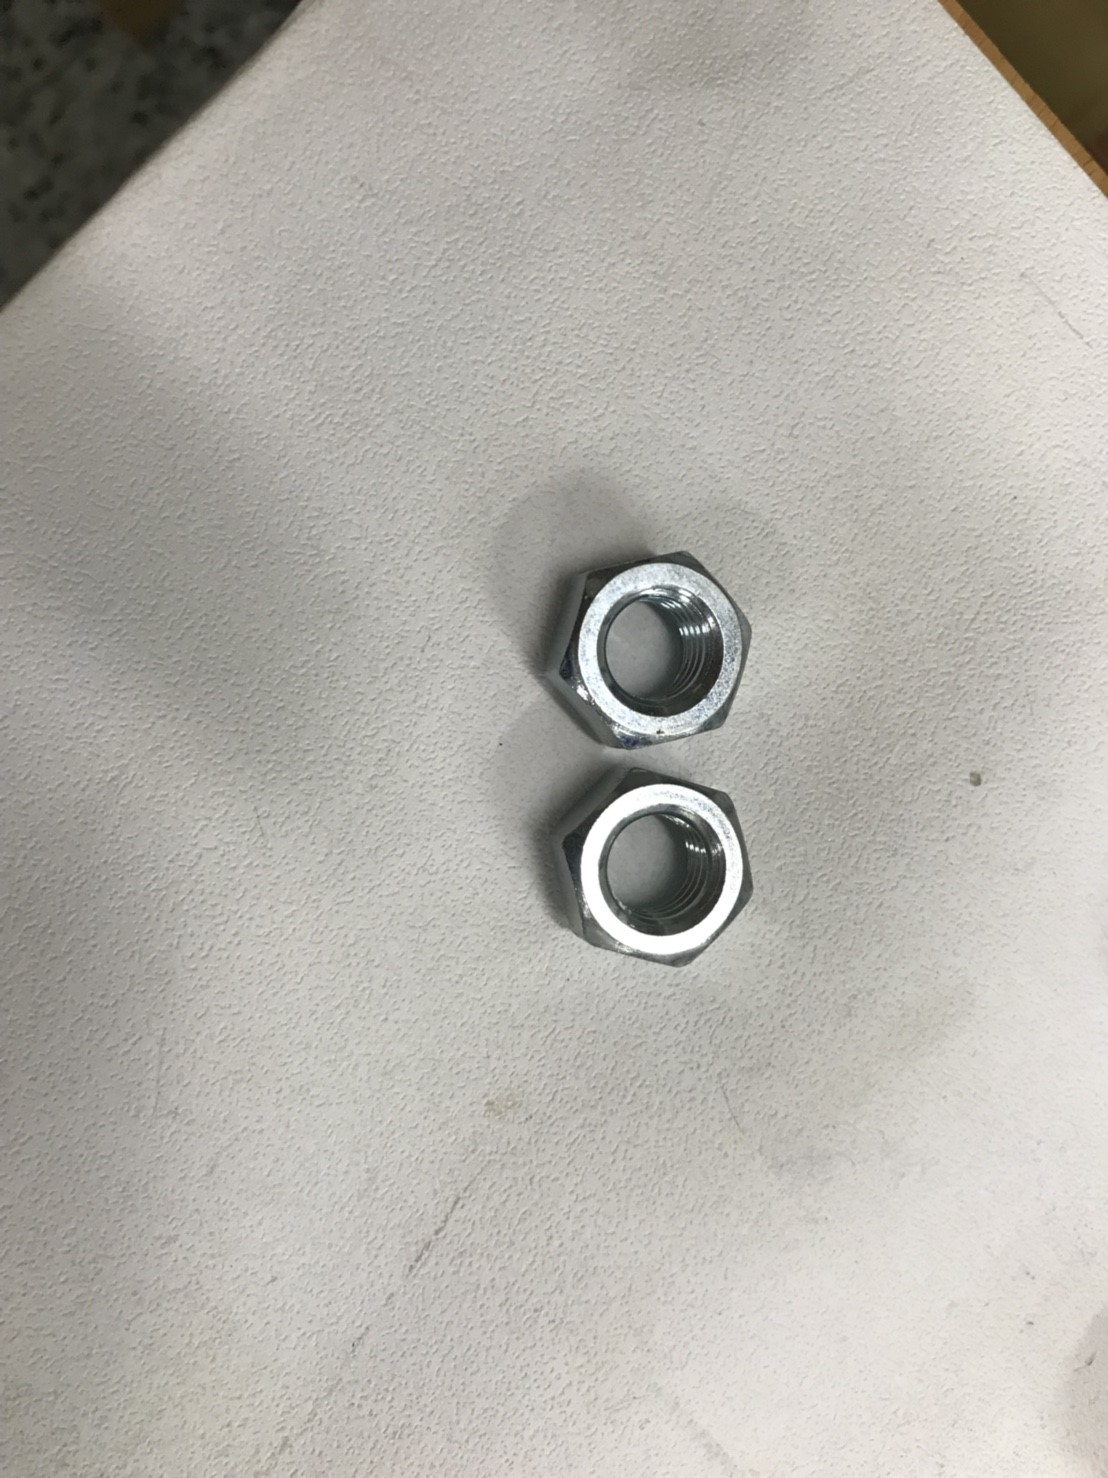nut: (528, 761, 768, 964), (547, 553, 762, 744)
